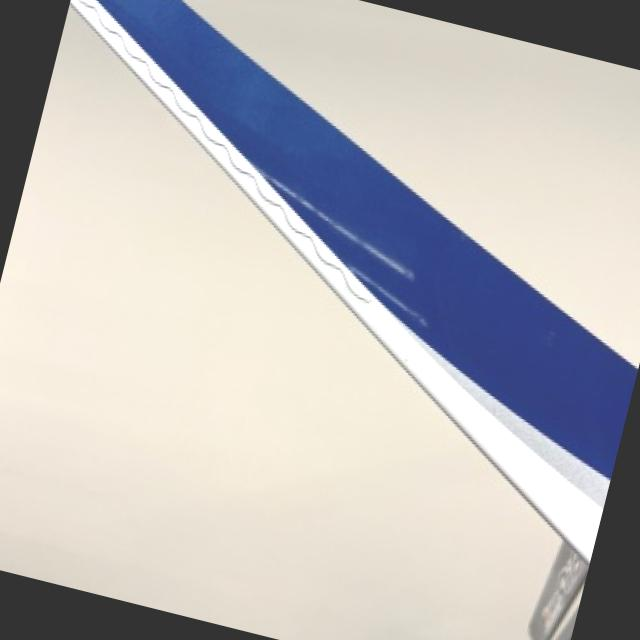healthy: (0, 5, 562, 640)
